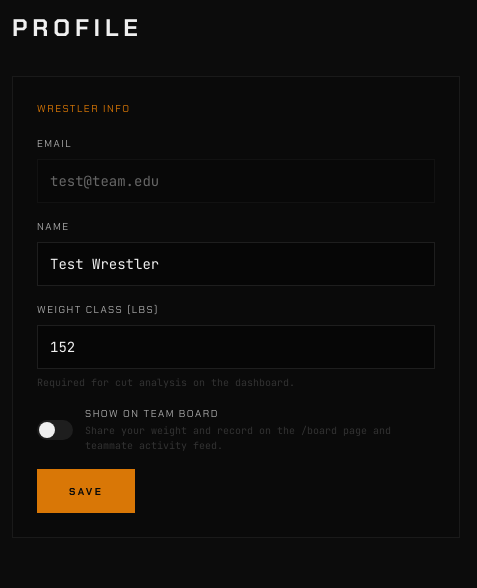
Test: Profile › happy path — submits updated profile
The width and height of the screenshot is (477, 588).
Replace the text in the field with placeholder "Your name" below "NAME" with "New Name" at (236, 264), box [37, 242, 435, 286]
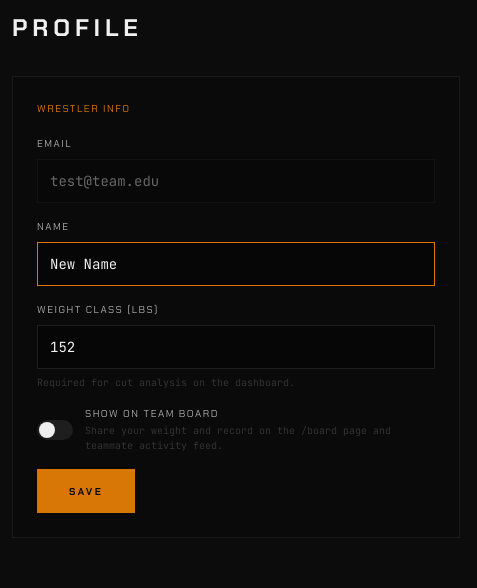
Click the button "SAVE".
click(86, 491)  # box [37, 469, 135, 513]
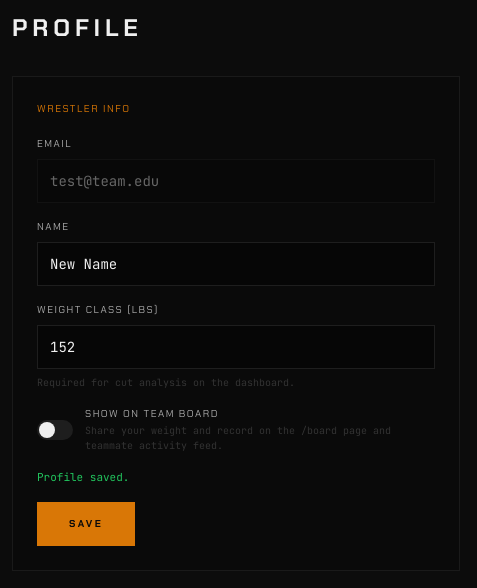
Check: the text "Profile saved." is shown, box [37, 470, 129, 484]
